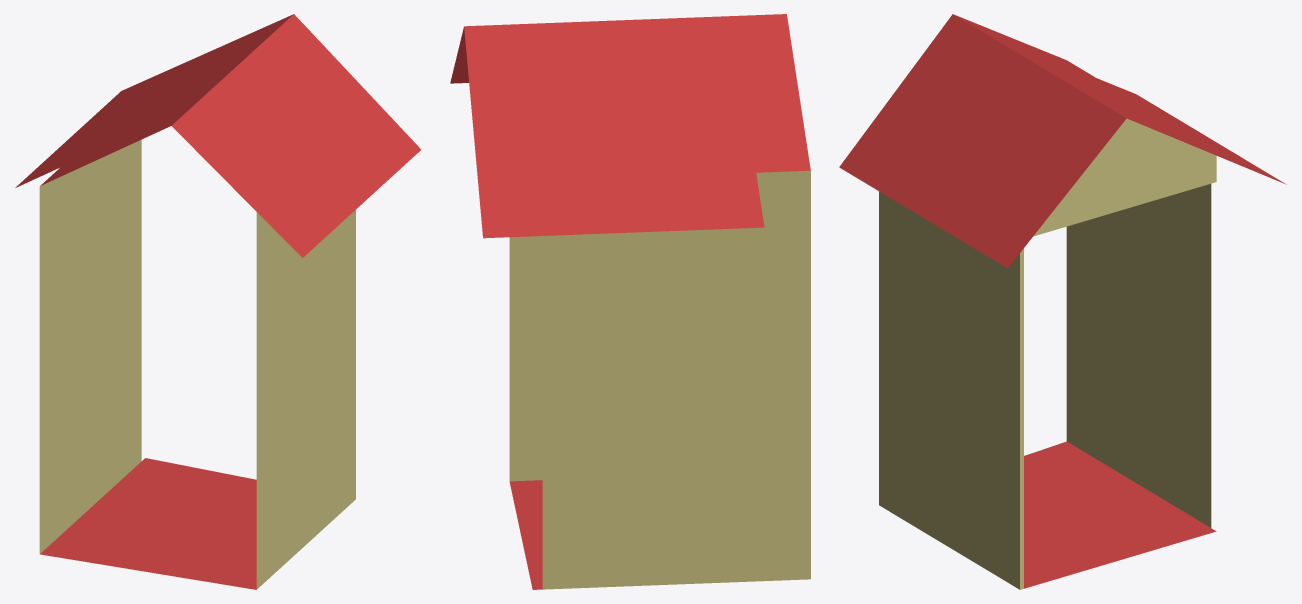
The picture shows the model from 3 angles, left to right: view 1: azimuth 30°, elevation 25°; view 2: azimuth 150°, elevation 25°; view 3: azimuth 270°, elevation 25°; orthographic projection. The views are drawn at different scales.
Bounding box in the file's own units: 8.28 × 8.79 × 10.08.
